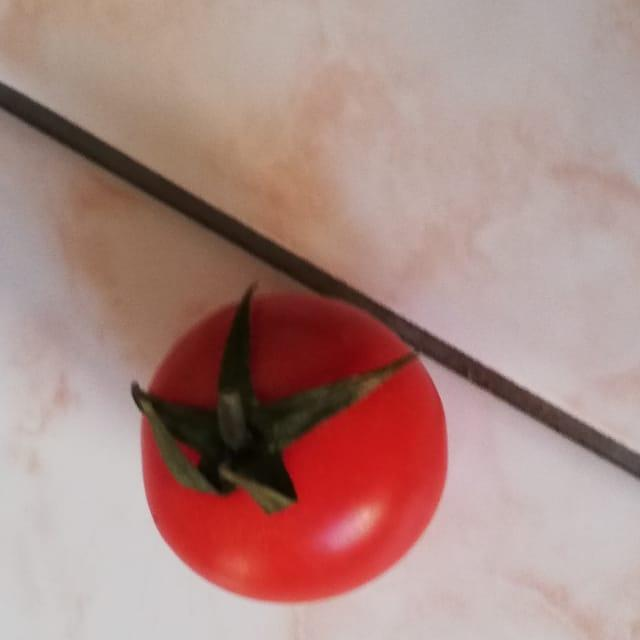tomato: (116, 260, 471, 614)
